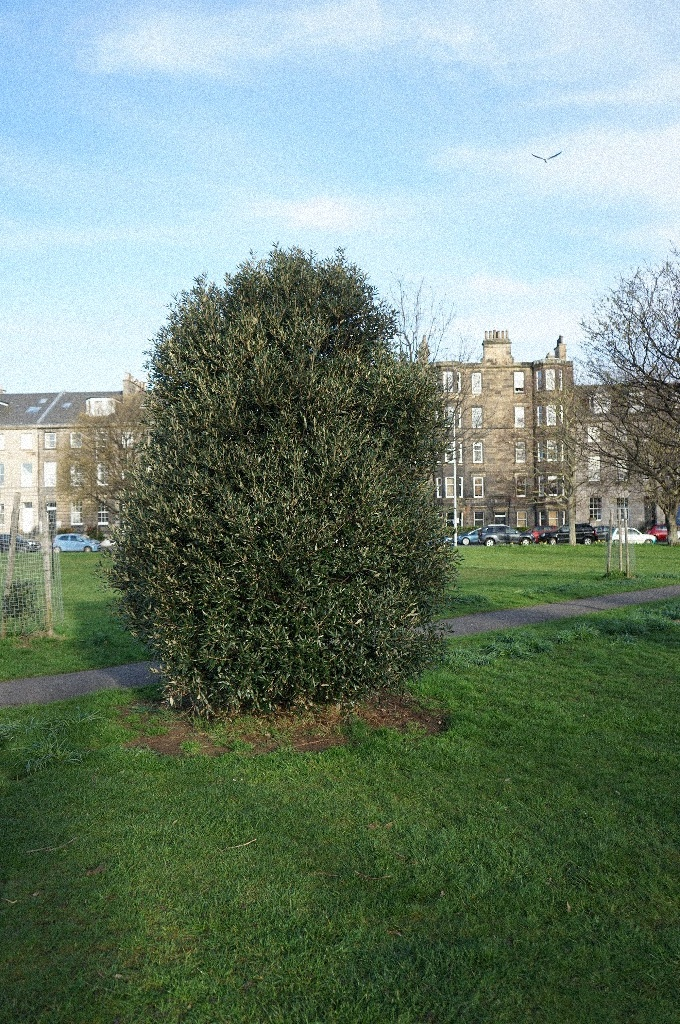Tree: (73, 222, 482, 764), (560, 187, 680, 548)
